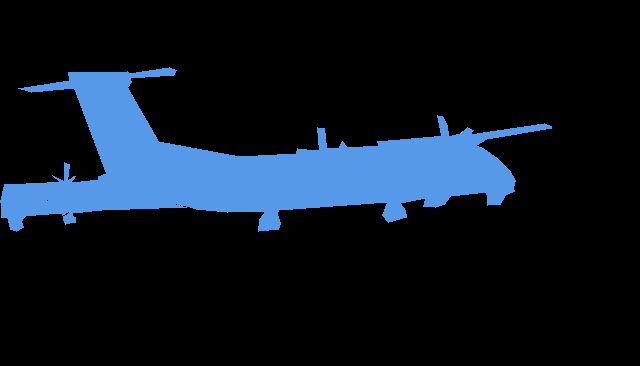Airplane: (18, 67, 552, 231), (1, 179, 187, 224), (0, 162, 75, 231)
